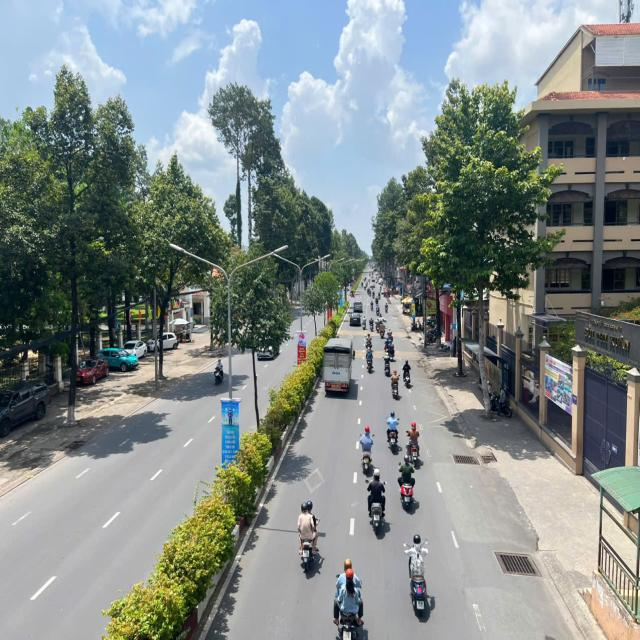Truck: (326, 336, 355, 396)
car: (350, 313, 361, 327), (353, 300, 362, 311), (384, 290, 390, 298), (381, 287, 387, 293), (370, 282, 374, 288)
motobyte: (333, 565, 360, 640), (404, 540, 429, 612), (296, 503, 318, 570), (368, 470, 384, 533), (400, 456, 412, 506), (361, 426, 372, 472), (408, 423, 420, 465), (388, 412, 398, 451), (403, 362, 410, 385), (366, 348, 372, 372), (384, 355, 390, 375), (393, 373, 398, 396), (389, 341, 394, 360), (384, 340, 390, 355), (366, 333, 372, 347), (387, 328, 393, 340), (381, 324, 385, 338), (376, 320, 380, 334), (370, 318, 373, 332), (363, 317, 366, 330), (376, 306, 379, 316), (385, 304, 388, 314), (371, 301, 374, 311), (375, 297, 378, 305), (378, 292, 381, 300), (372, 292, 375, 299), (370, 290, 371, 298), (368, 288, 368, 296)
